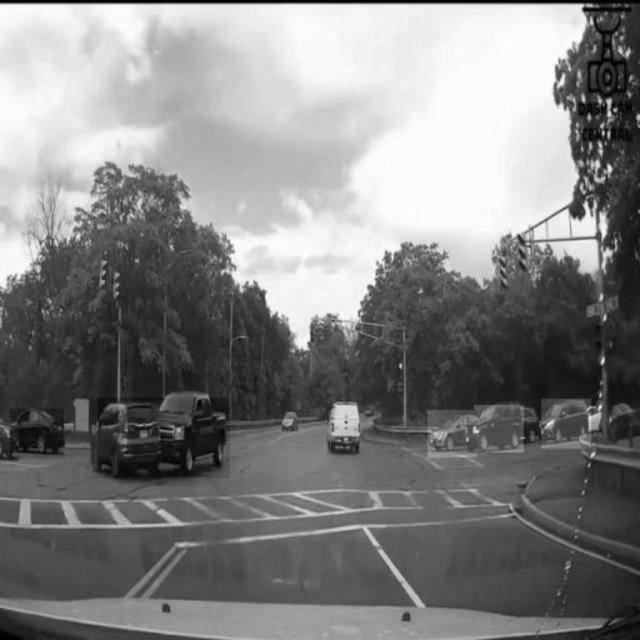accident: (97, 398, 231, 478)
vehicle: (10, 410, 64, 460), (542, 399, 592, 449), (474, 405, 524, 453), (428, 411, 478, 458), (324, 399, 366, 453)
